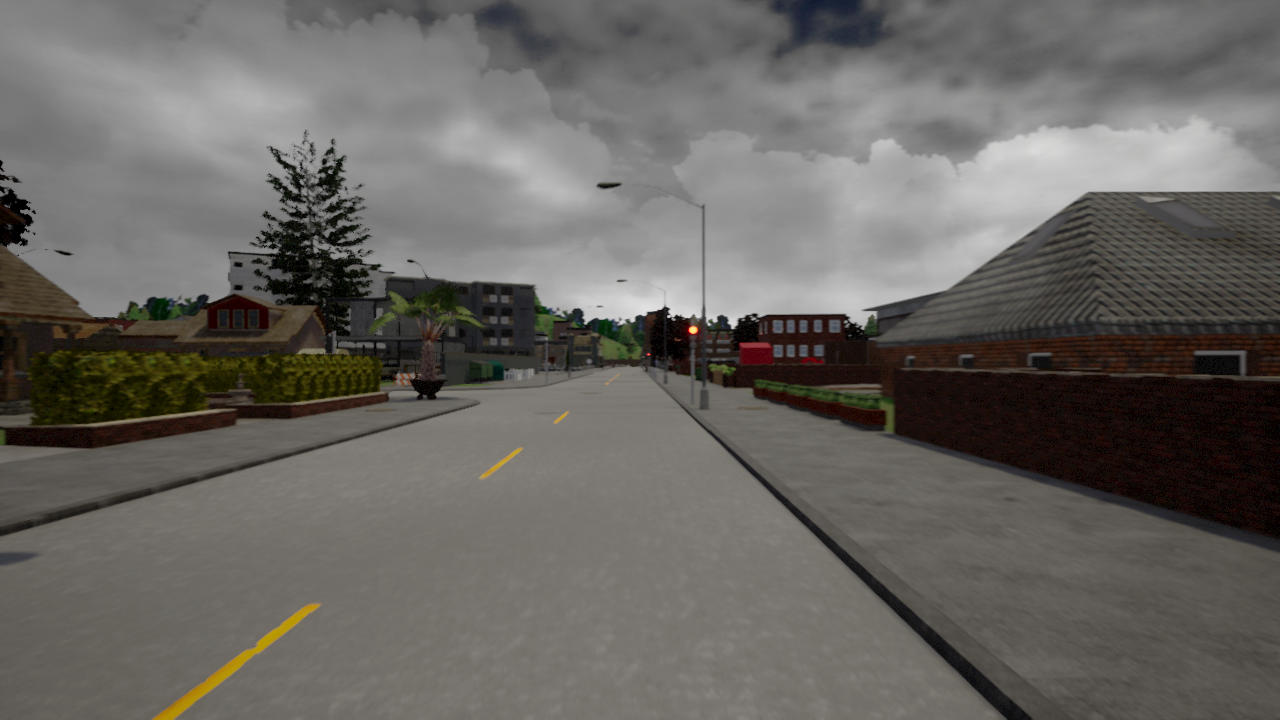red: (688, 325, 699, 351)
